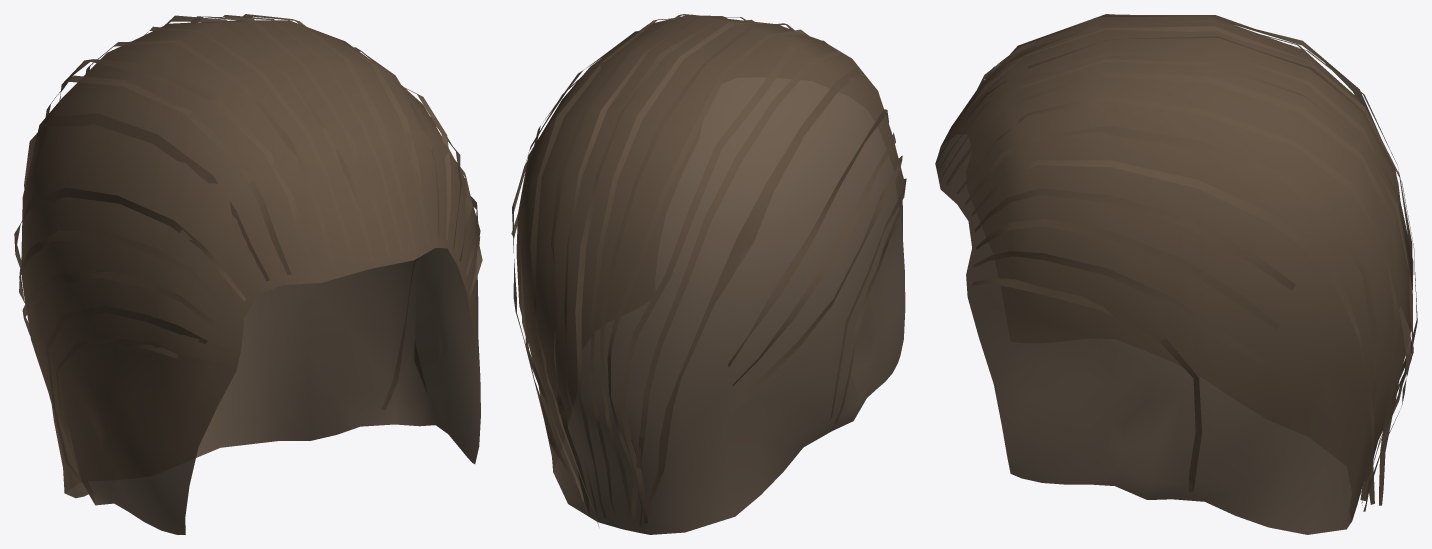
The model's file is short04.glb.
The picture shows the model from 3 angles, left to right: view 1: azimuth 30°, elevation 25°; view 2: azimuth 150°, elevation 25°; view 3: azimuth 270°, elevation 25°; orthographic projection. The views are drawn at different scales.
Visible parts, largest first — view 1: short04; view 2: short04; view 3: short04.
Part boxes in pixels (bbox=[...]): short04: bbox=[14, 14, 482, 534]; short04: bbox=[511, 14, 906, 534]; short04: bbox=[935, 14, 1417, 534].
Bounding box in the file's own units: 0.1527 × 0.198 × 0.1822.
